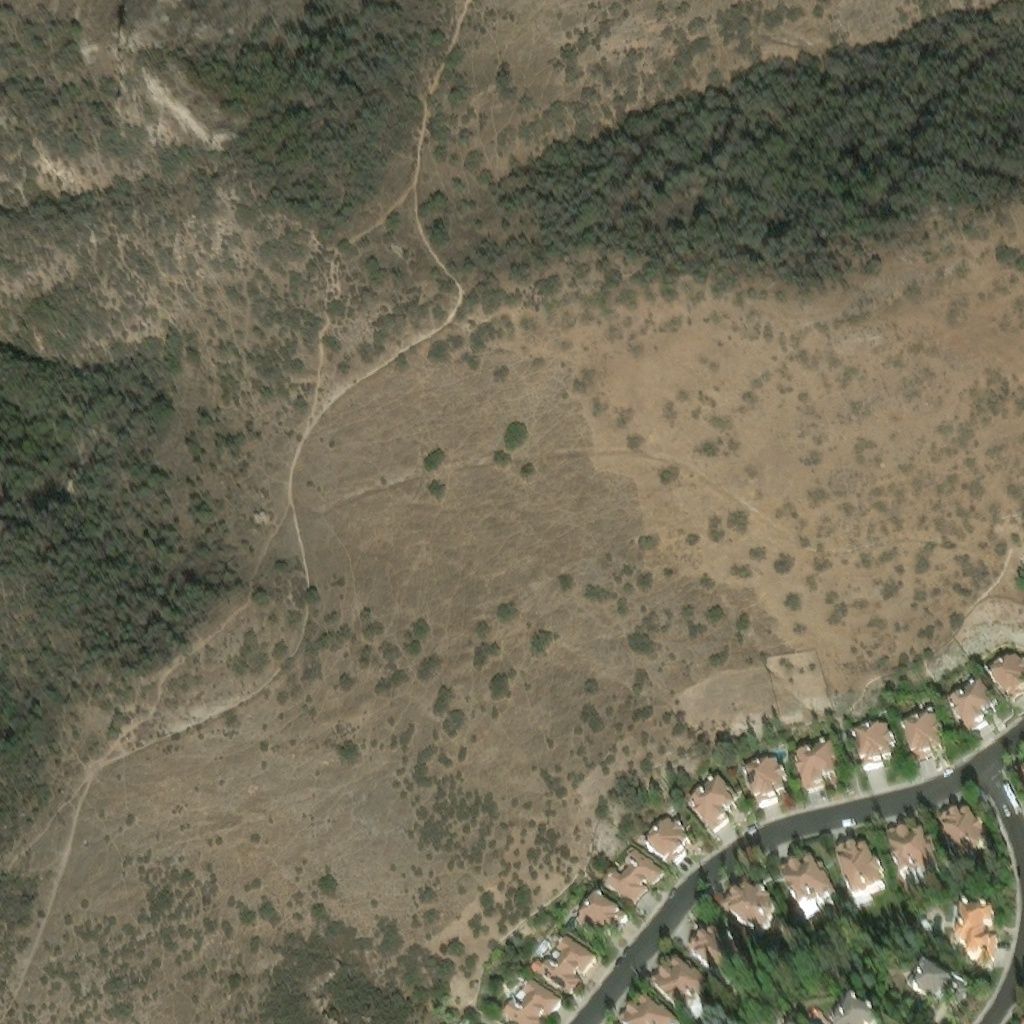0 no-damage: (598, 844, 668, 910), (528, 936, 598, 998), (778, 862, 839, 920), (684, 774, 739, 838), (688, 933, 753, 986), (652, 965, 712, 1021), (902, 957, 969, 1004), (576, 892, 632, 948), (500, 977, 565, 1023), (641, 818, 695, 872), (887, 829, 938, 886), (945, 678, 995, 736), (723, 888, 779, 939), (952, 904, 997, 966), (836, 847, 884, 905), (793, 740, 840, 796), (939, 812, 990, 859), (742, 758, 788, 810), (902, 705, 944, 761), (851, 721, 897, 771), (981, 651, 1023, 703), (832, 993, 878, 1023), (624, 1003, 679, 1023), (920, 917, 929, 927)
